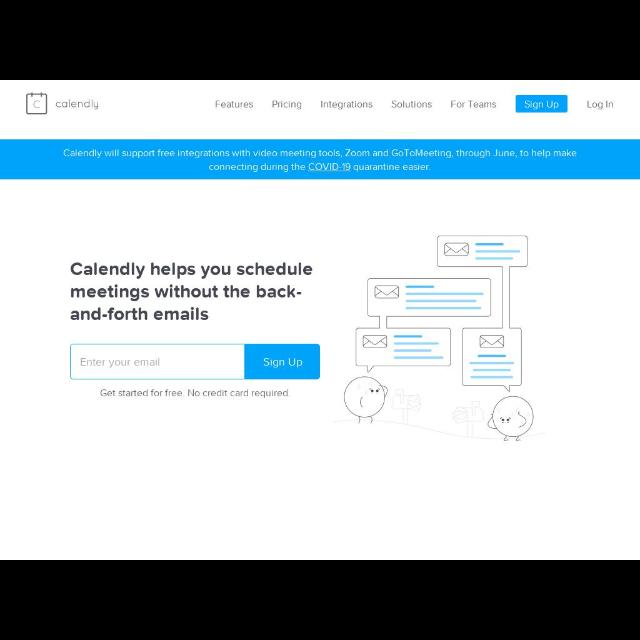image: (333, 235, 544, 443), (25, 92, 49, 114)
input: (71, 345, 245, 379)
multitab: (210, 92, 622, 118)
text: (69, 260, 315, 322), (61, 146, 580, 174), (100, 388, 290, 398), (80, 355, 162, 371), (450, 98, 498, 112), (56, 98, 100, 112), (213, 98, 254, 112), (320, 100, 372, 110), (391, 100, 433, 110), (270, 100, 304, 112), (585, 100, 613, 112)
textbutton: (245, 344, 319, 380), (515, 94, 567, 112)
